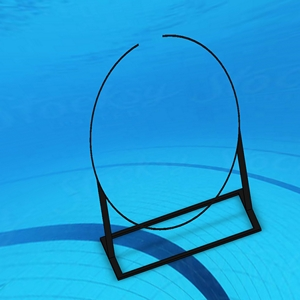circle: (85, 32, 265, 283)
